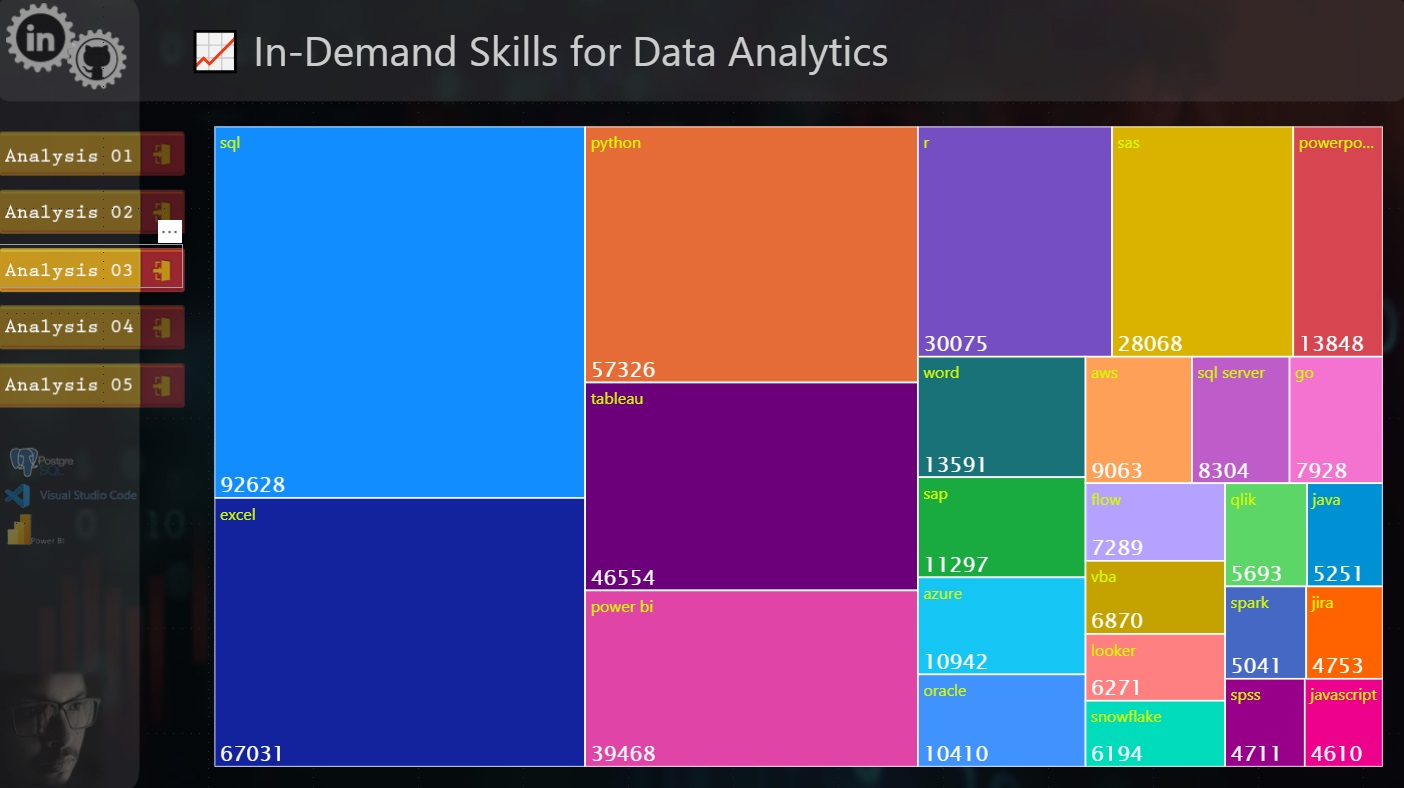

This screenshot's page, from the dashboard's own definition file:
{"tool":"powerbi","page":{"name":"Q3 - In-Demand Skills for Data Analytics","canvas":[1280,720],"ordinal":2},"visuals":[{"type":"treemap","fields":{"Group":["3_top_demanded_skills (2).skill_name"],"Values":["Sum(3_top_demanded_skills (2).demand_count)"]},"box":[192,112,1072,592],"z":0},{"type":"textbox","box":[168,16,1016,80],"z":1000},{"type":"actionButton","box":[0,120,168,40],"z":1001},{"type":"actionButton","box":[0,176,168,40],"z":1002},{"type":"actionButton","box":[0,224,168,40],"z":1003},{"type":"actionButton","box":[0,280,168,40],"z":1004},{"type":"actionButton","box":[0,336,168,40],"z":1005},{"type":"actionButton","box":[16,16,48,40],"z":1006},{"type":"actionButton","box":[72,40,40,32],"z":1007}]}

Visuals, with their boxes on the page's 1280x720 design canvas (x1, y1, x2, y2). These are canvas units, not pixel positions in the 1404x788 screenshot, which may show the page scaled, cropped or inside an application window:
treemap - 3_top_demanded_skills (2).skill_name x Sum(3_top_demanded_skills (2).demand_count): x1=192 y1=112 x2=1264 y2=704
textbox: x1=168 y1=16 x2=1184 y2=96
actionButton: x1=0 y1=120 x2=168 y2=160
actionButton: x1=0 y1=176 x2=168 y2=216
actionButton: x1=0 y1=224 x2=168 y2=264
actionButton: x1=0 y1=280 x2=168 y2=320
actionButton: x1=0 y1=336 x2=168 y2=376
actionButton: x1=16 y1=16 x2=64 y2=56
actionButton: x1=72 y1=40 x2=112 y2=72
